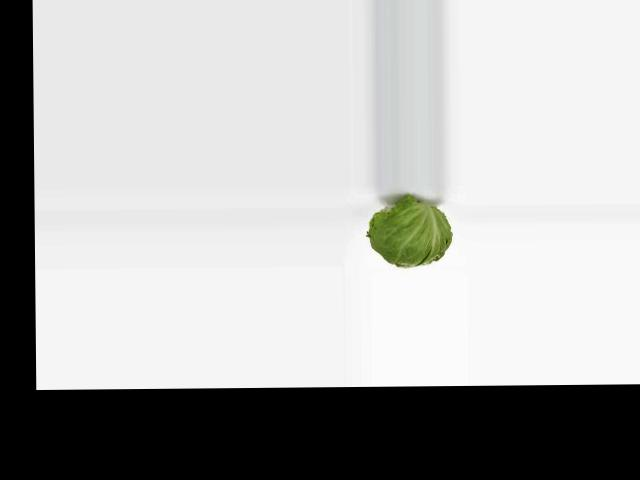lettuce: (364, 204, 457, 269)
